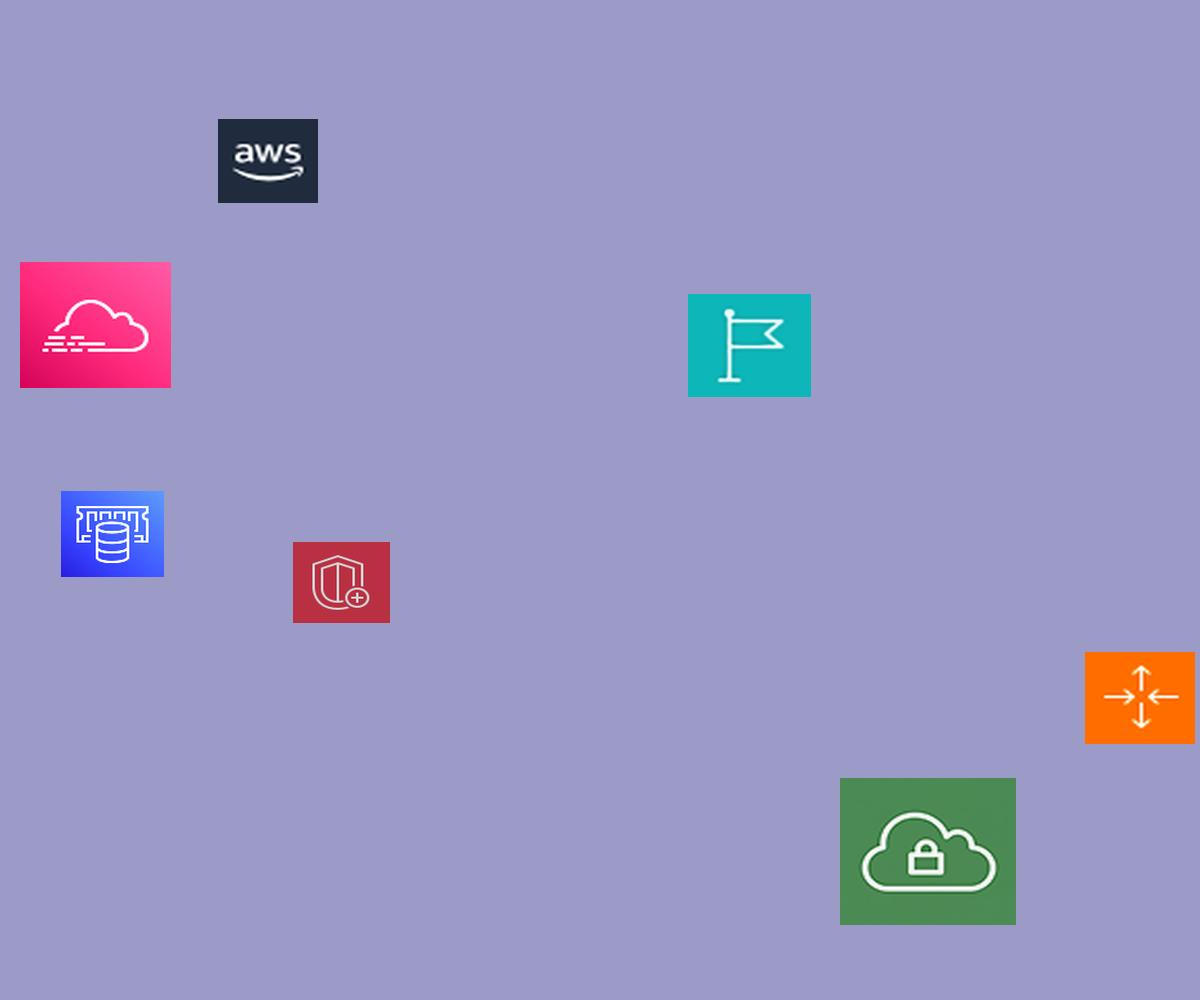AWS-Cloud-logo: (218, 119, 318, 203)
AWS-CloudTrail: (20, 262, 171, 388)
AWS-ElastiCache: (61, 491, 164, 577)
AWS-Private_vpc: (840, 778, 1016, 925)
AWS-Region: (688, 294, 811, 397)
AWS-Scaling-group: (1085, 652, 1195, 744)
AWS-Shield: (293, 542, 390, 623)
